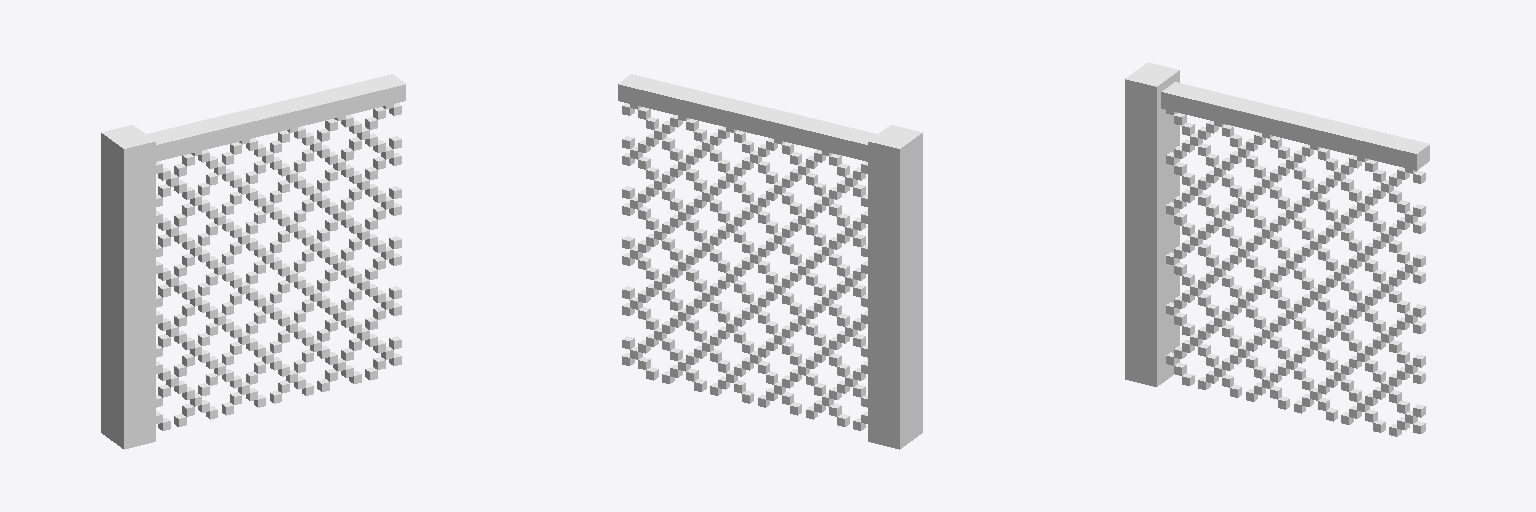
Rendered from grille-0.obj.
The picture shows the model from 3 angles: view 1: azimuth 30°, elevation 25°; view 2: azimuth 150°, elevation 25°; view 3: azimuth 330°, elevation 25°; orthographic projection.
Parts seen in each view (by area): view 1: object 1; view 2: object 1; view 3: object 1.
Boxes of the visible parts, box(x1,y1,x2,y2) form: object 1: box(101, 74, 405, 449); object 1: box(618, 74, 922, 449); object 1: box(1125, 62, 1429, 436).
Size of the model in its own units: 3.6 by 3.6 by 0.5.